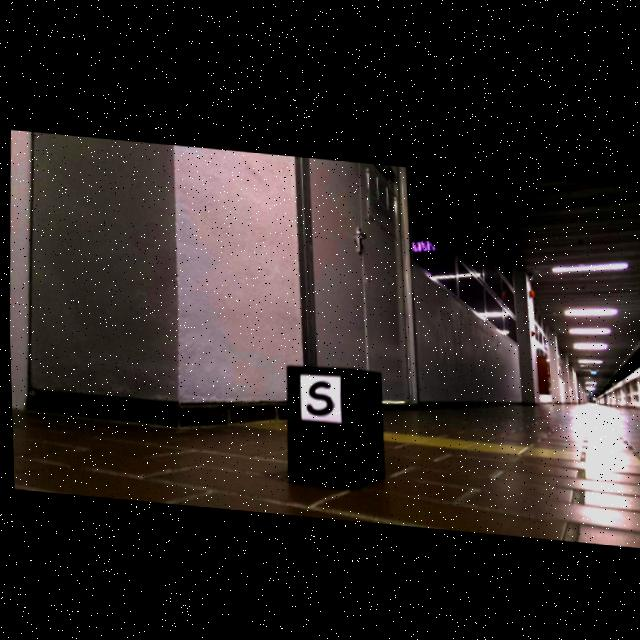S: (305, 377, 331, 411)
